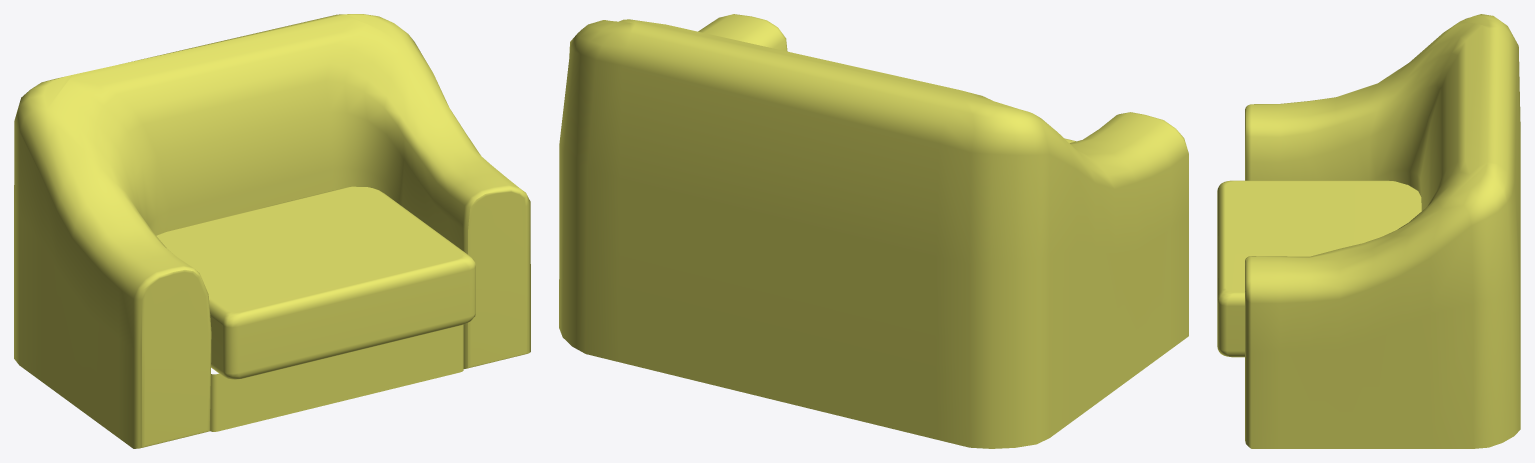
File: CouchFBX.fbx
3 renders of one model, left to right at view 1: azimuth 30°, elevation 25°; view 2: azimuth 150°, elevation 25°; view 3: azimuth 270°, elevation 25°, orthographic. The views are drawn at different scales.
Parts seen in each view (by area): view 1: CouchFrame, CouchCushion, CouchBase; view 2: CouchFrame; view 3: CouchFrame, CouchCushion.
Part boxes in pixels (<box>): CouchFrame: <box>14,14,530,448</box>; CouchCushion: <box>156,186,475,379</box>; CouchBase: <box>210,324,463,431</box>; CouchFrame: <box>559,14,1188,448</box>; CouchFrame: <box>1245,14,1520,448</box>; CouchCushion: <box>1217,180,1421,357</box>.
Size of the model in its own units: 1.71 by 1.1 by 1.16.
